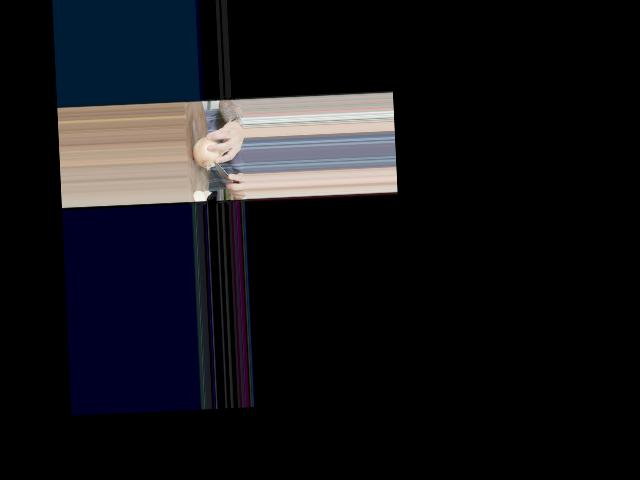onion: (194, 134, 221, 168)
